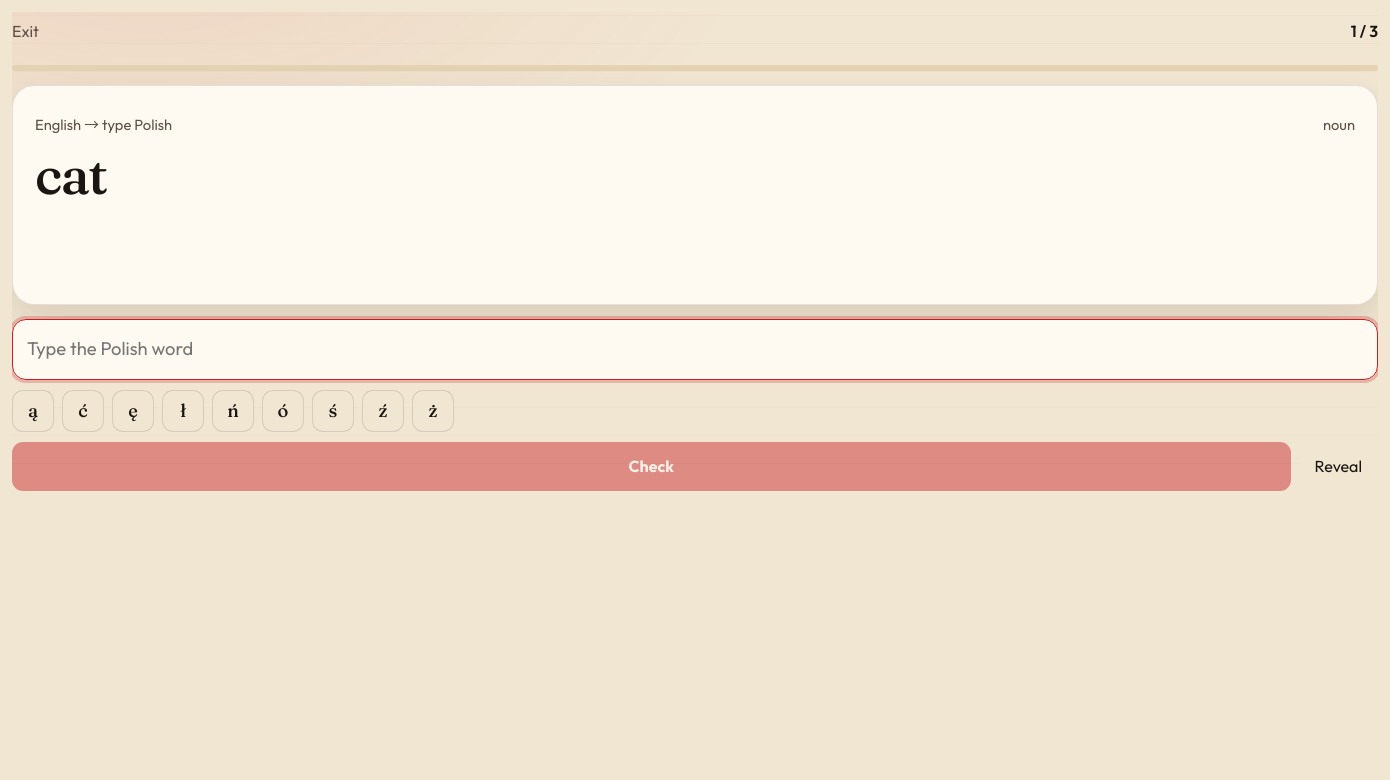
Test case: Session advance shortcut › missed words summary › shows the summary with graded misses when exiting early during retype
Click the button "Reveal" at [1338, 466], box [1299,442,1378,491]
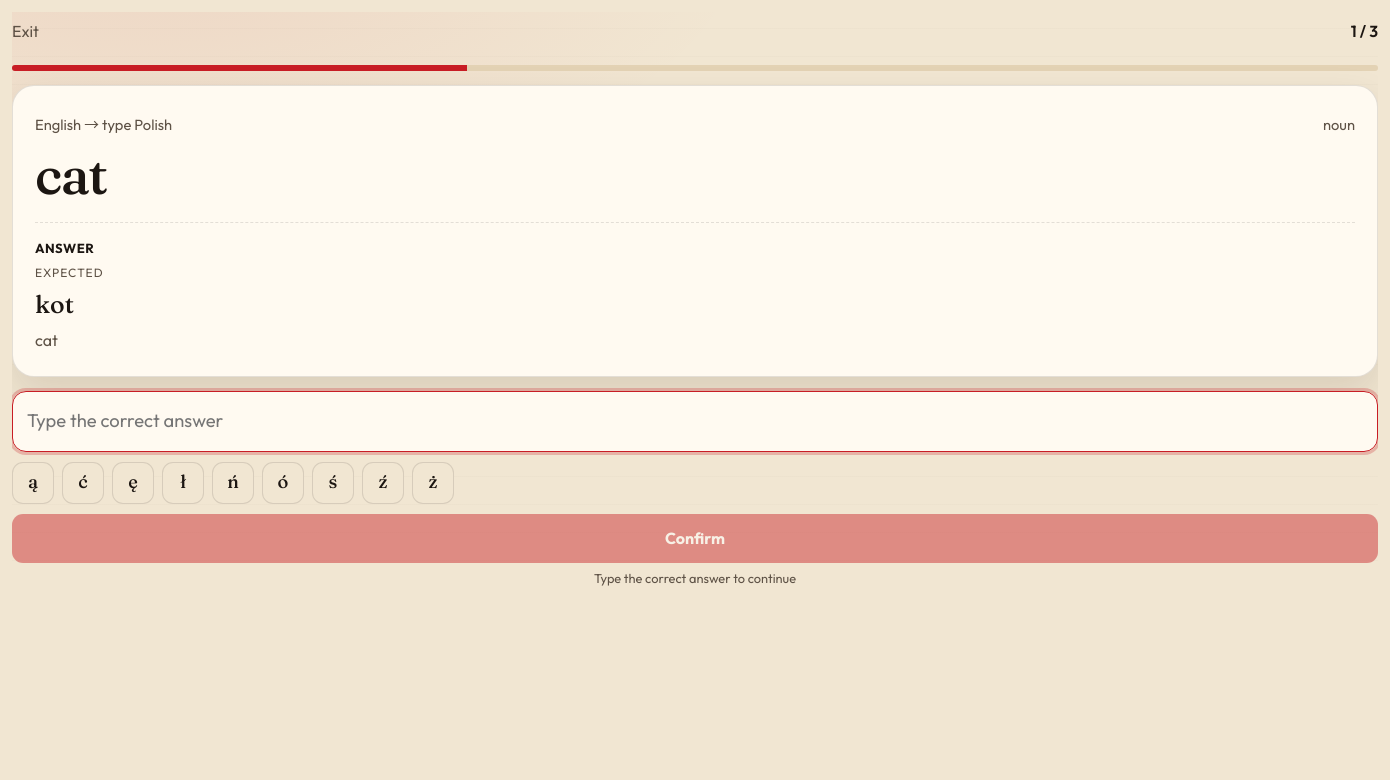
Result: the text "Type the correct answer to continue" is shown at [594,570,796,586]
Click the button "Exit" at [26, 32], box [12,12,39,51]
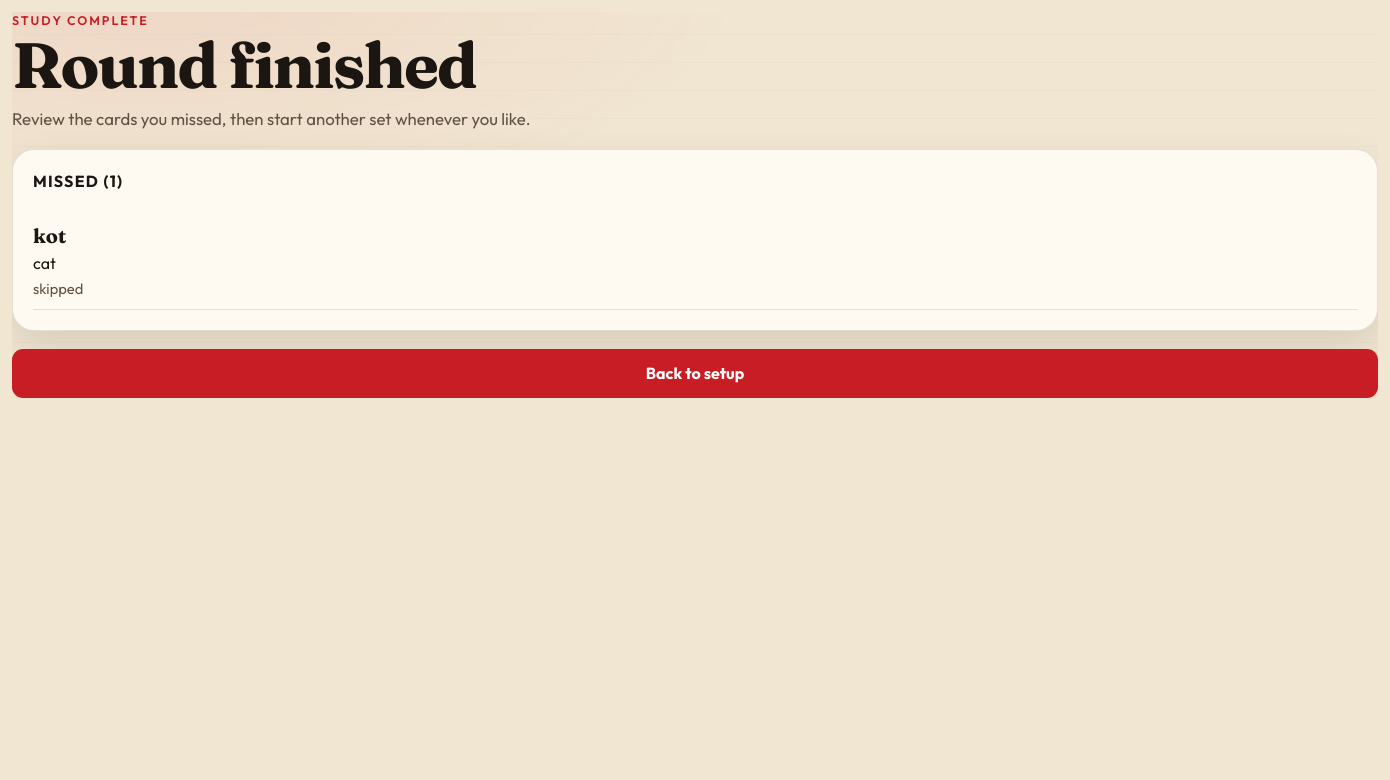
Result: the text "kot" is shown at [33,223,66,248]
Result: the text "Study complete" is shown at [12,13,149,28]
Result: the text "Missed (1)" is shown at [33,171,123,191]
